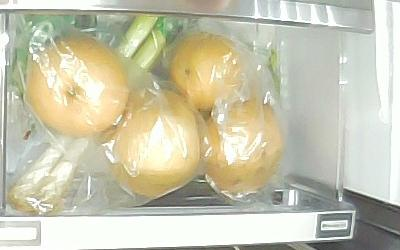pear_vinyl: (25, 35, 131, 136), (109, 87, 201, 197), (202, 101, 283, 199), (170, 33, 244, 109)
